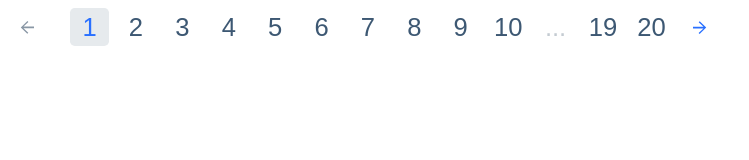
Test case: Paginator component › render a 20-page length Paginator component, clicking on the brake buttons
This screenshot has width=749, height=160.
Expected: the button named "Previous page" is disabled, [8,8,46,46]
Expected: the button "1" is disabled, [70,8,109,46]
Click the button "...". click: (556, 27)
box: [536,8,575,46]
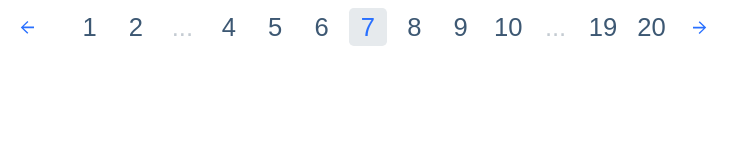
Expected: the button "1" is enabled, [70,8,109,46]
Now the button named "Previous page" is enabled, box [8,8,46,46]
Click the 2nd button "...". click: (556, 27)
box: [536,8,575,46]
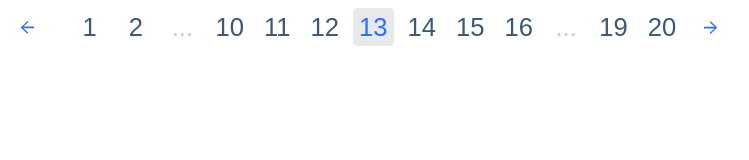
Now the button named "Previous page" is enabled, box [8,8,46,46]
Now the button "1" is enabled, box [70,8,109,46]
Now the button "11" is enabled, box [258,8,297,46]
Click the 2nd button "...". click: (566, 27)
box: [547,8,585,46]
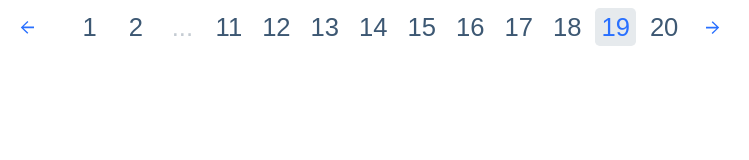
Now the button named "Previous page" is enabled, box [8,8,46,46]
Now the button "11" is enabled, box [210,8,248,46]
Now the button "12" is enabled, box [256,8,297,46]
// go back to 13
Click the button "...". click: (182, 27)
box: [163,8,202,46]
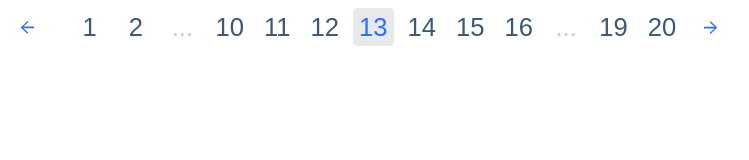
Now the button named "Previous page" is enabled, box [8,8,46,46]
Now the button "1" is enabled, box [70,8,109,46]
Now the button "10" is enabled, box [210,8,250,46]
